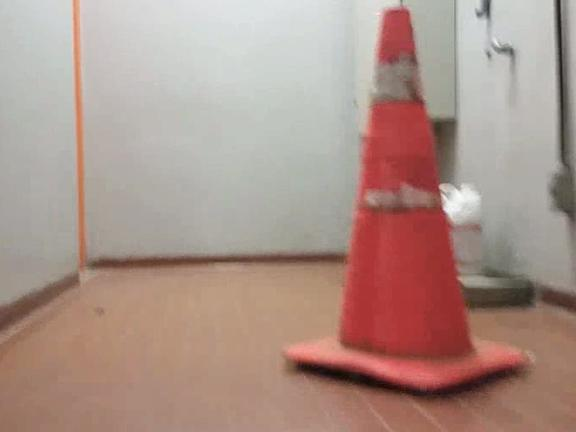0 cone: (283, 7, 530, 390)
